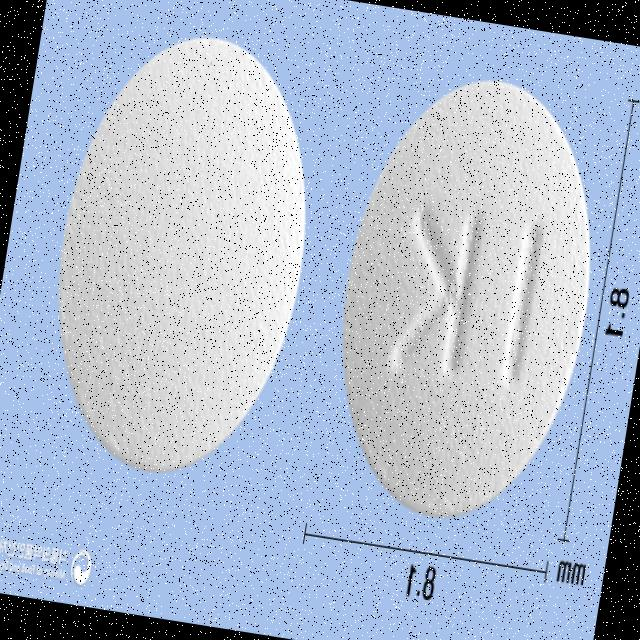Lesacra: (312, 57, 622, 536), (30, 17, 337, 488)
